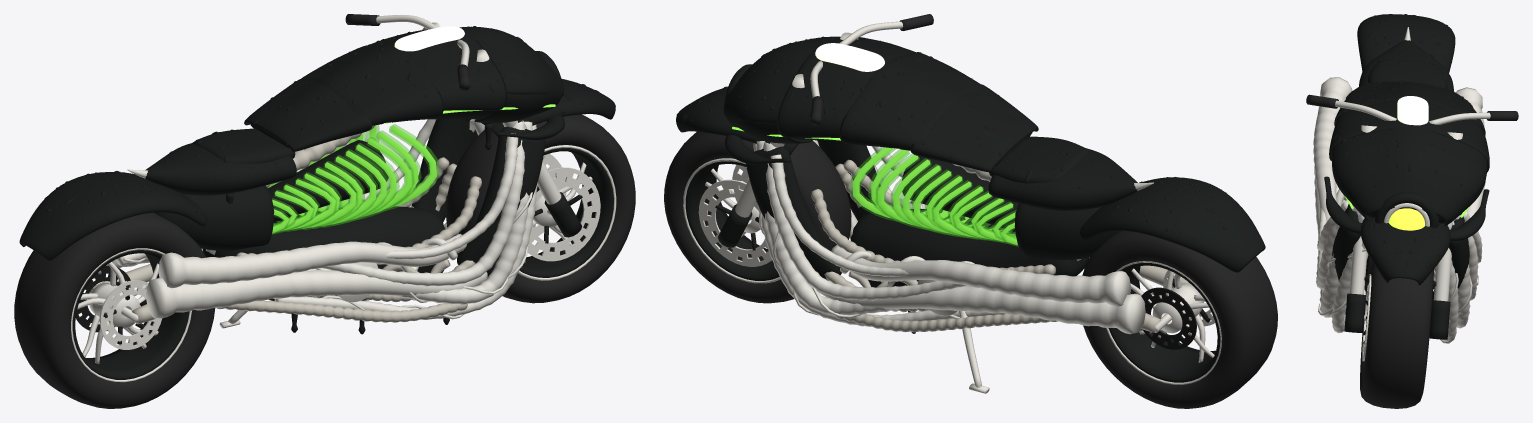
Rendered from bike.glb.
3 renders of one model, left to right at view 1: azimuth 30°, elevation 25°; view 2: azimuth 150°, elevation 25°; view 3: azimuth 270°, elevation 25°, orthographic. The views are drawn at different scales.
Parts seen in each view (by area): view 1: Bike, WheelRear, WheelFront, BikeButton; view 2: Bike, WheelRear, WheelFront, BikeButton; view 3: Bike, WheelFront, BikeButton.
Part boxes in pixels (x1,y1,x2,y2): Bike: (19,14,615,334); WheelRear: (14,212,215,408); WheelFront: (446,114,635,303); BikeButton: (394,26,464,51); Bike: (676,14,1265,393); WheelRear: (1082,231,1277,408); WheelFront: (664,131,851,303); BikeButton: (815,43,884,71); Bike: (1306,14,1518,343); WheelFront: (1360,256,1433,408); BikeButton: (1397,96,1428,125).
Bounding box in the file's own units: 2.2 × 0.9962 × 0.7538.
